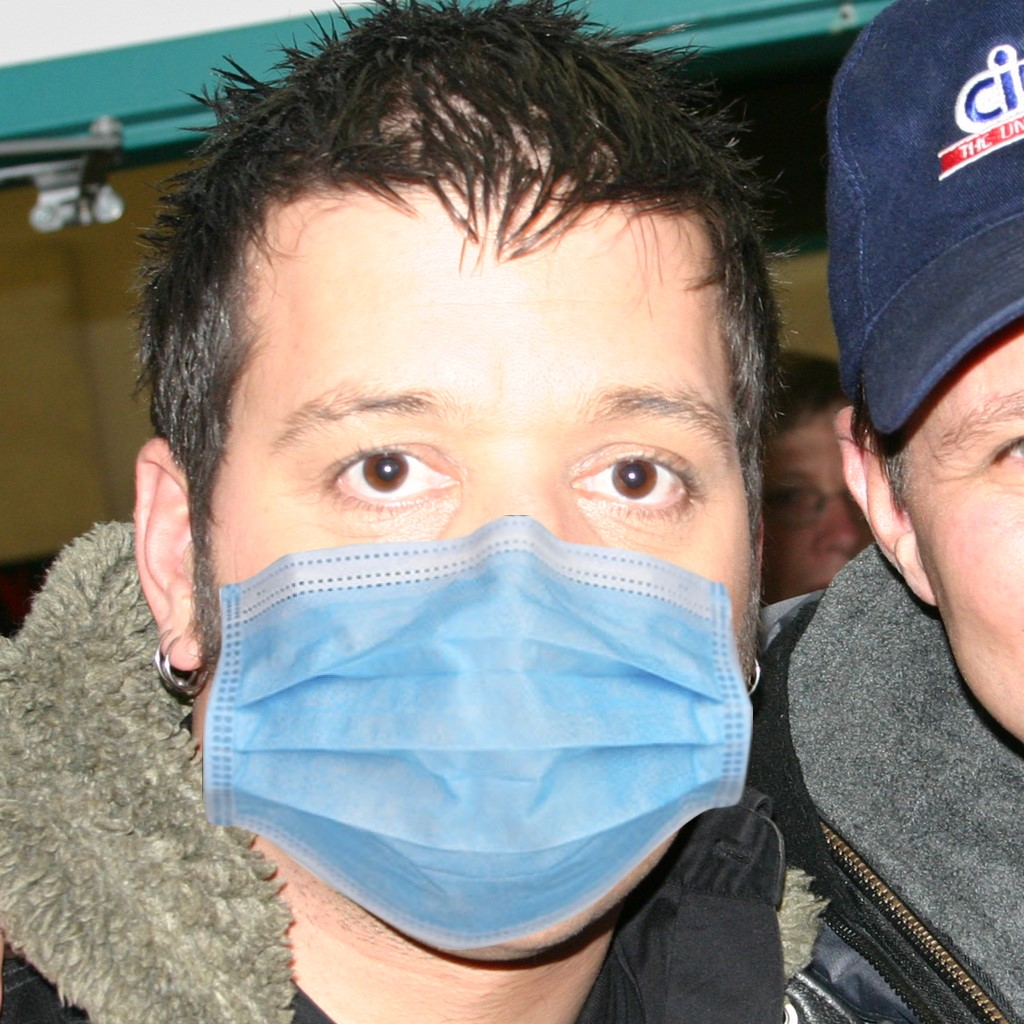con_mascara: (159, 153, 763, 972)
